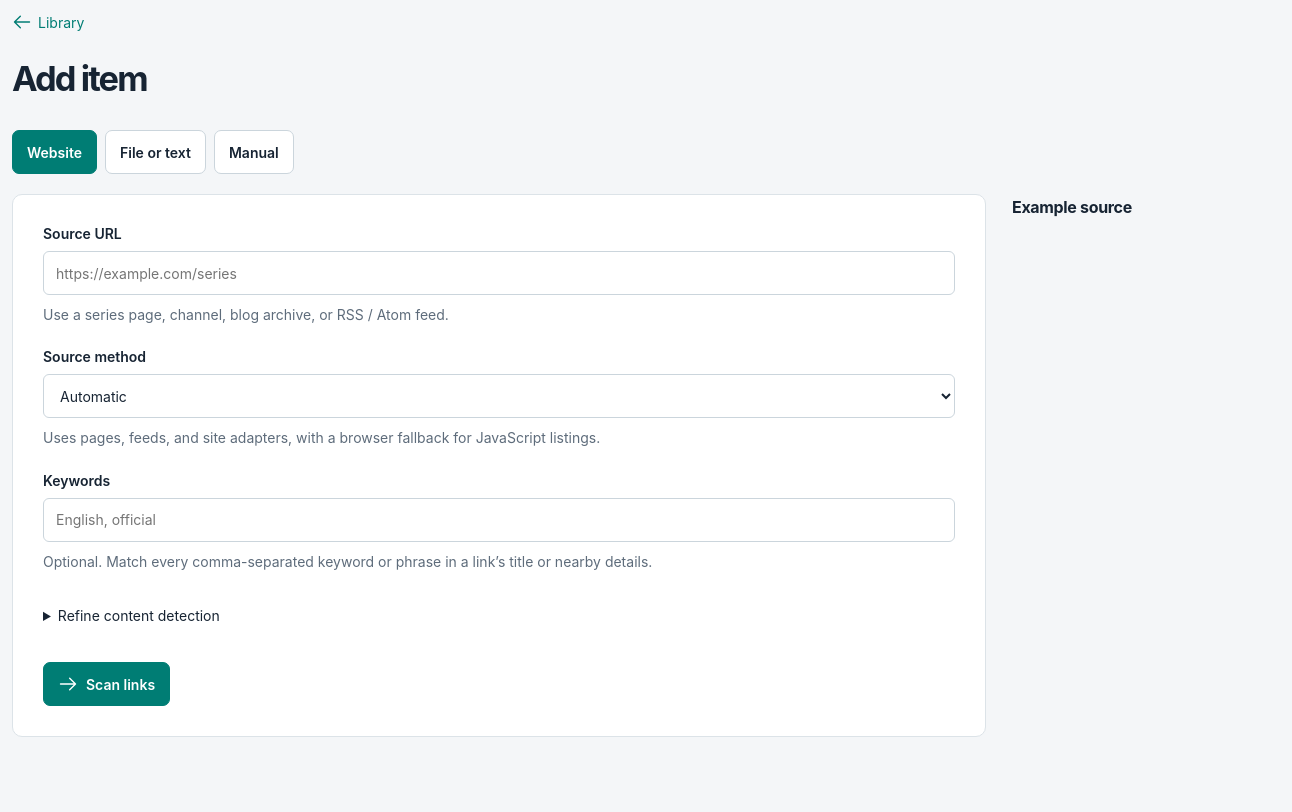
Test: Enma watch URLs select the episode API and disclose access restrictions
Type "https://www.enma.lol/watch/grand-blue-dreaming-season-3-199111?ep=9" into the field labelled "Source URL" at point(499, 273), box [43, 251, 955, 295]
Wait 400 ms
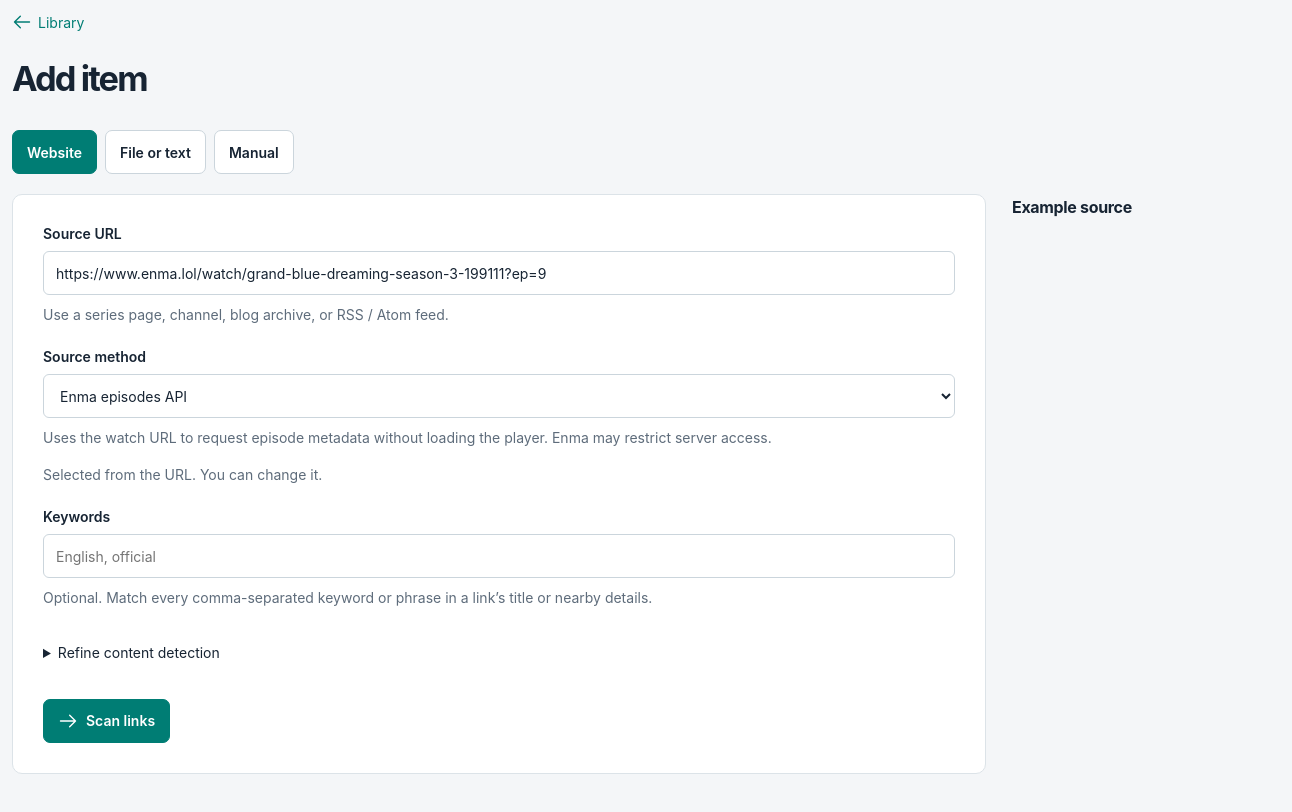
Now the dropdown labelled "Source method" shows "Enma episodes API", box [43, 374, 955, 418]
Now the text "Enma may restrict server access" is shown, box [43, 429, 772, 446]
